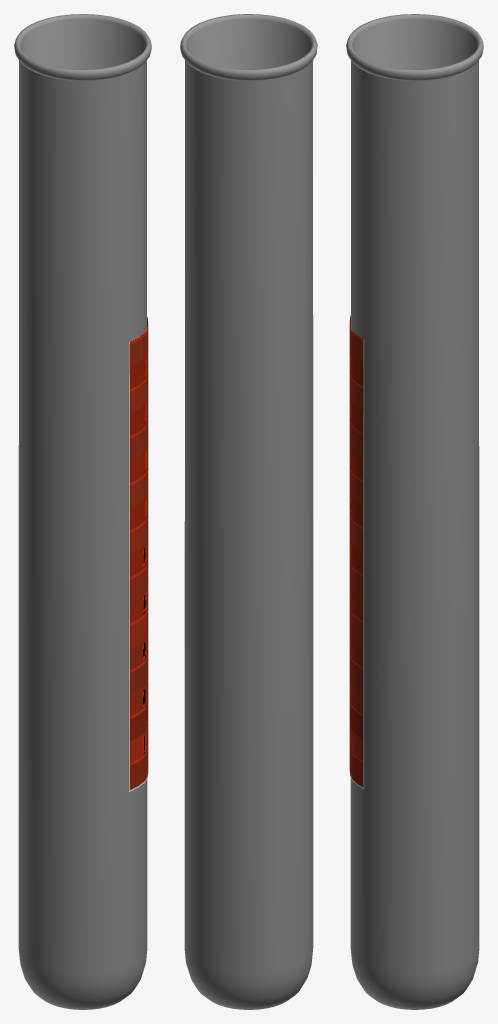
Rendered from SM_消化管.fbx.
3 views of the same model, side by side, from view 1: azimuth 90°, elevation 25°; view 2: azimuth 150°, elevation 25°; view 3: azimuth 270°, elevation 25° (orthographic).
Visible parts, largest first — view 1: SM_消化管; view 2: SM_消化管; view 3: SM_消化管.
Part boxes in pixels (<box>): SM_消化管: <box>14,14,151,1009</box>; SM_消化管: <box>180,14,317,1009</box>; SM_消化管: <box>346,14,483,1009</box>.
Size of the model in its own units: 0.0361 by 0.2752 by 0.0361.
